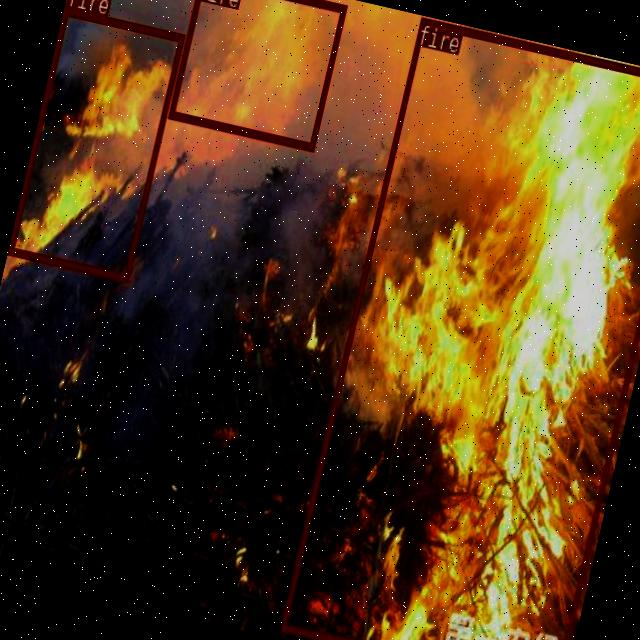fire: (279, 15, 640, 640), (7, 6, 184, 280), (167, 0, 346, 149)
